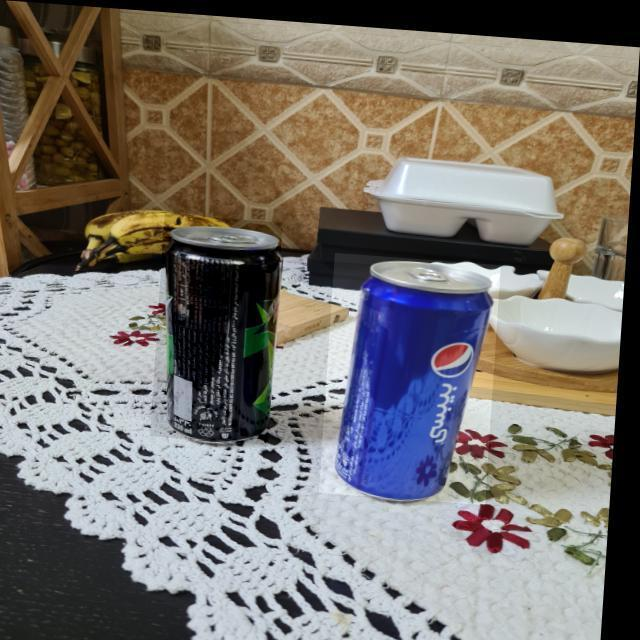trash: (162, 222, 290, 440)
